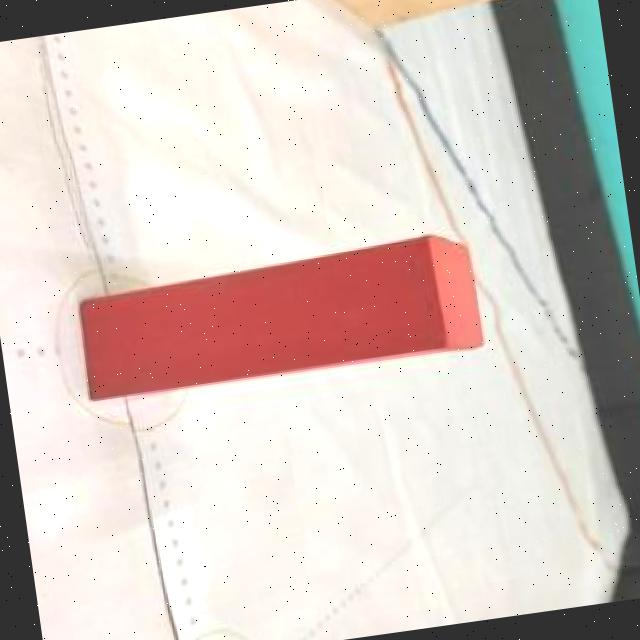redbox: (74, 238, 485, 404)
